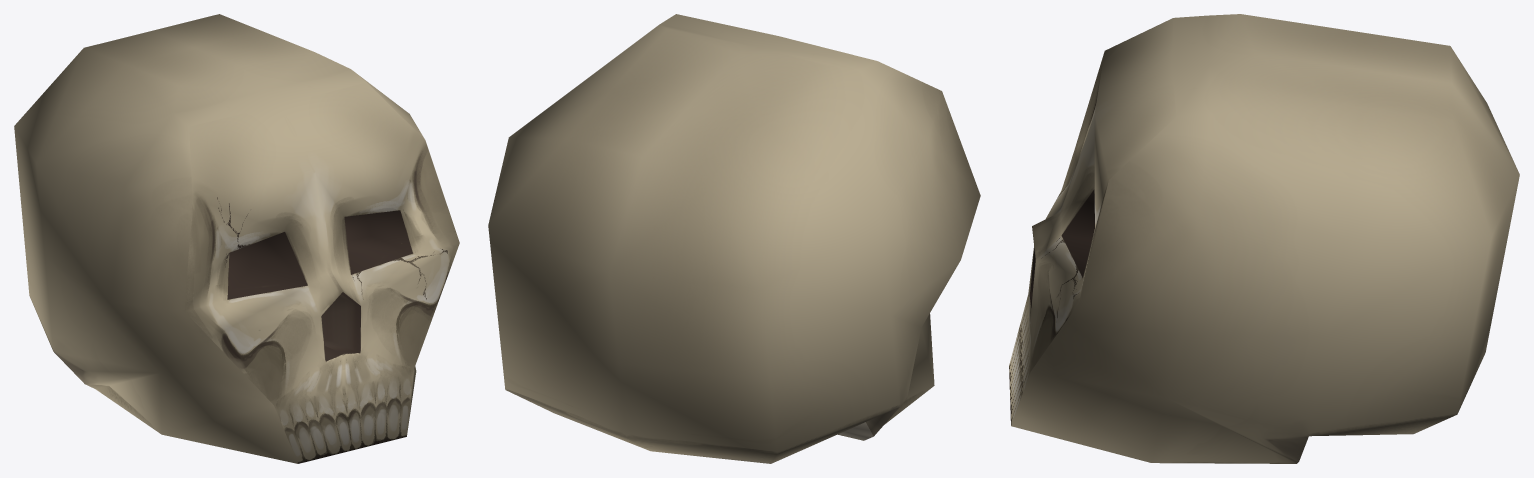
File: Skull01.fbx
The picture shows the model from 3 angles, left to right: view 1: azimuth 30°, elevation 25°; view 2: azimuth 150°, elevation 25°; view 3: azimuth 270°, elevation 25°; orthographic projection. The views are drawn at different scales.
Parts seen in each view (by area): view 1: Skull01; view 2: Skull01; view 3: Skull01.
Part boxes in pixels (bbox=[...]): Skull01: bbox=[14, 14, 459, 463]; Skull01: bbox=[488, 14, 980, 463]; Skull01: bbox=[1009, 14, 1519, 463].
Bounding box in the file's own units: 0.3324 × 0.3189 × 0.394.
1 material, 1 textured.
